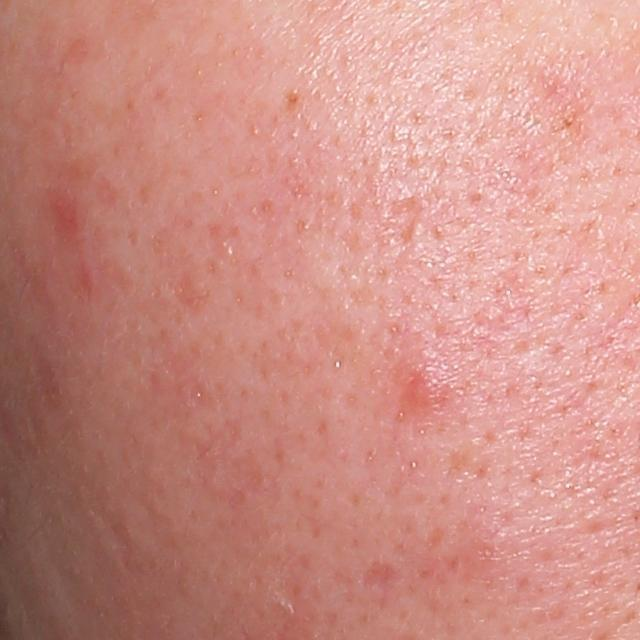atrophic_scar: (361, 561, 405, 612)
papule: (399, 372, 447, 408)
